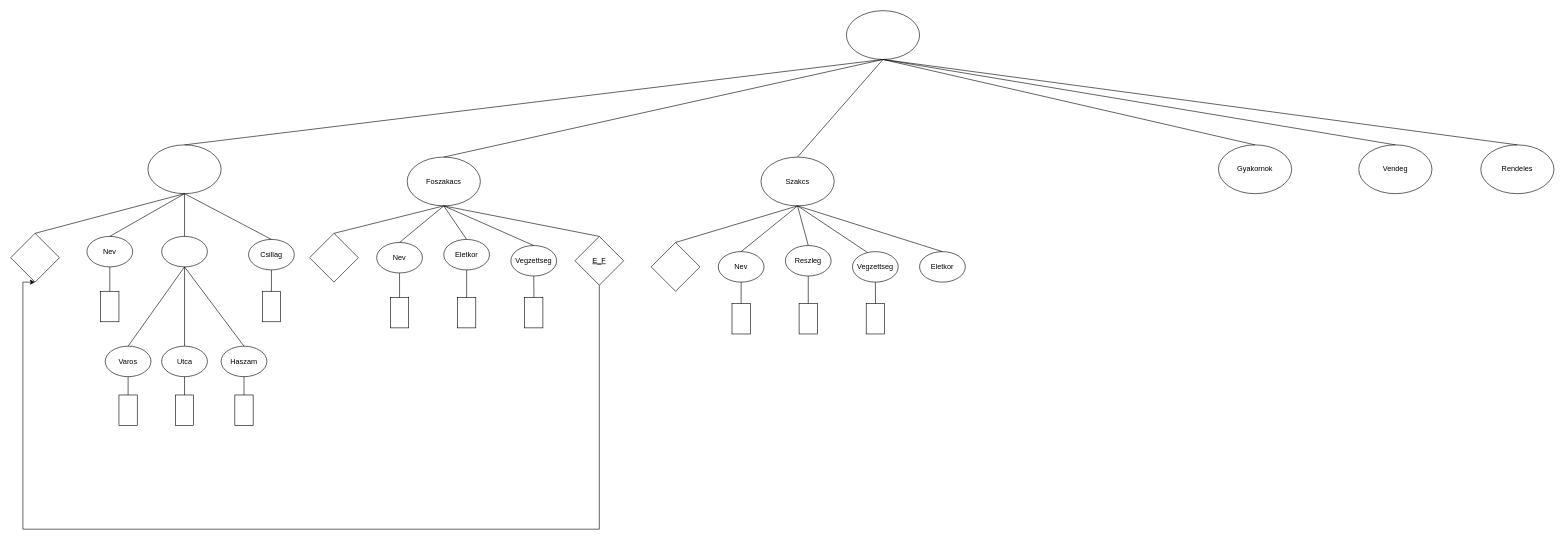
Image size: 1565x545. Some labels were removed from this diagram. Each missing label, with the centre of its shape:
"Cim" goes at (184,251).
"EKod" goes at (34,257).
"Etterem" goes at (184,169).
"Fkod" goes at (333,257).
"Szkod" goes at (675,266).
"Vendeglatas" goes at (883,34).
